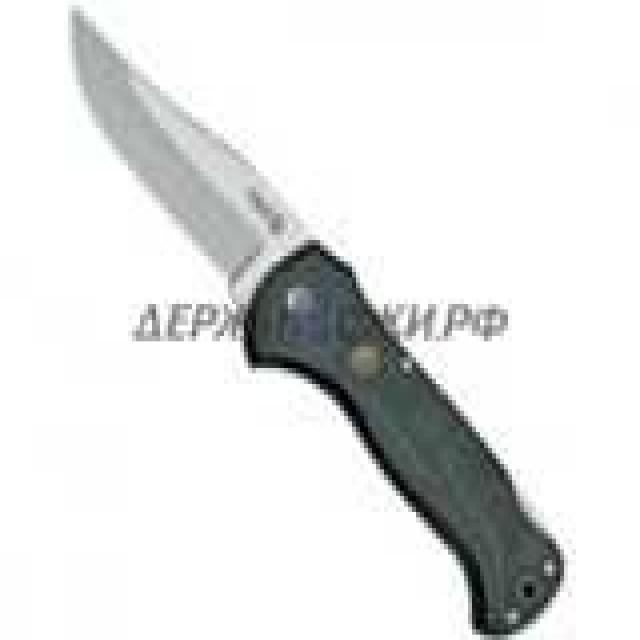weapon: (66, 0, 577, 636)
